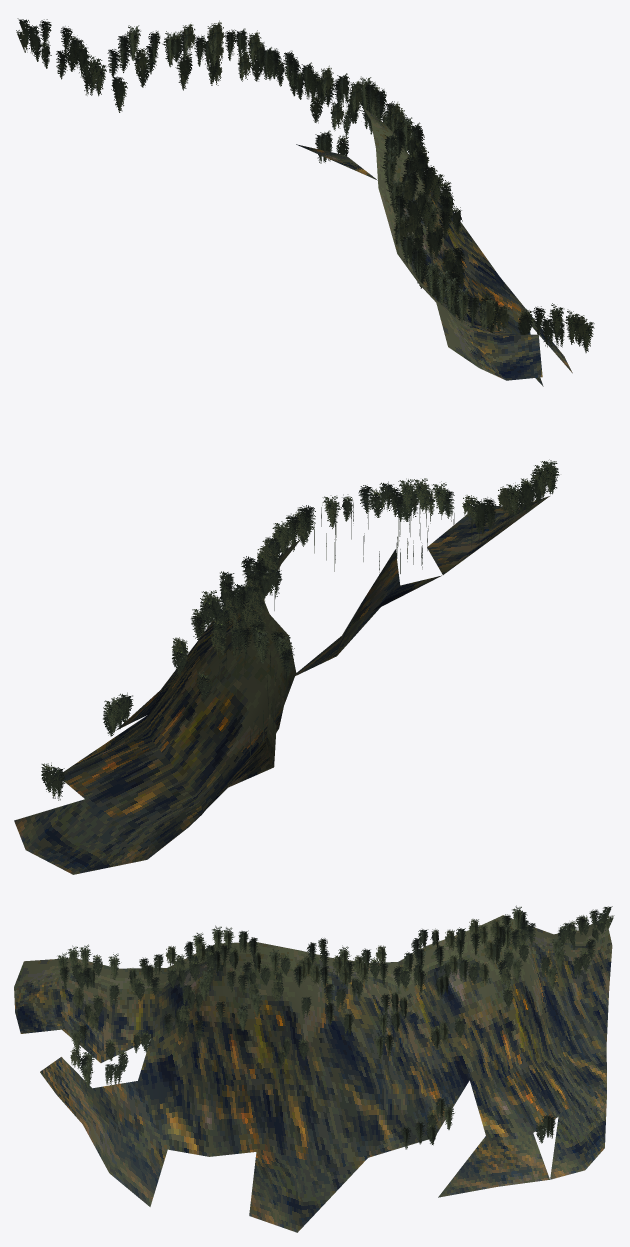
The model's file is world_camden_11_-7.gltf.
The picture shows the model from 3 angles, top to bottom: view 1: azimuth 30°, elevation 25°; view 2: azimuth 150°, elevation 25°; view 3: azimuth 270°, elevation 25°; orthographic projection. The views are drawn at different scales.
Size of the model in its own units: 131 by 112 by 266.
Materials: 2 (2 with a texture image).
